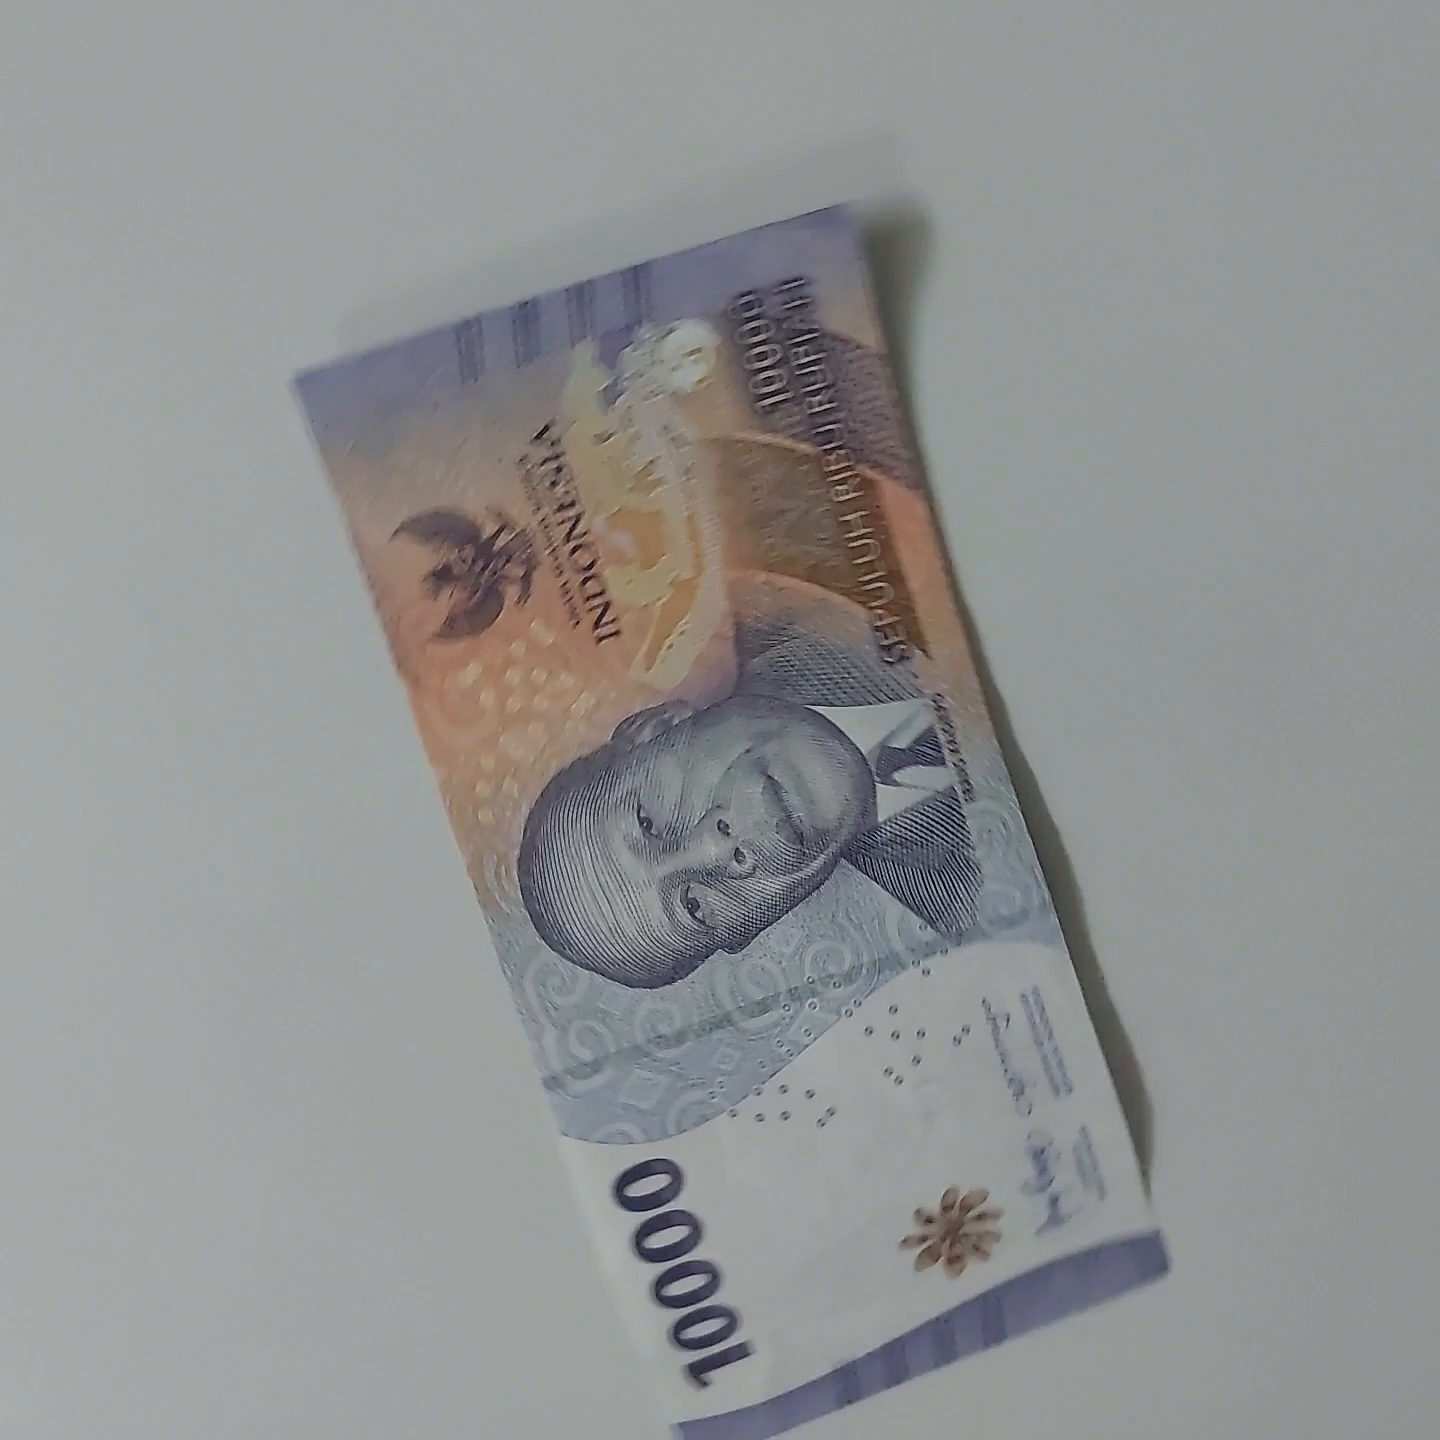10k: (216, 231, 1134, 1440)
